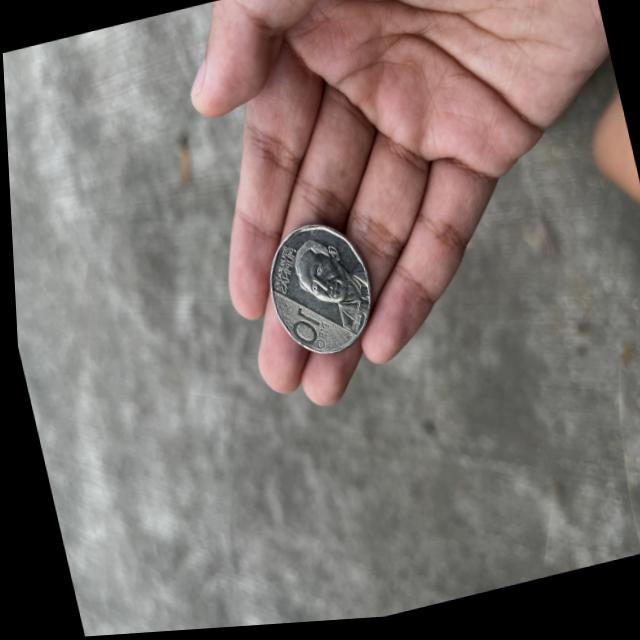10_New_Front: (279, 297, 337, 367)
